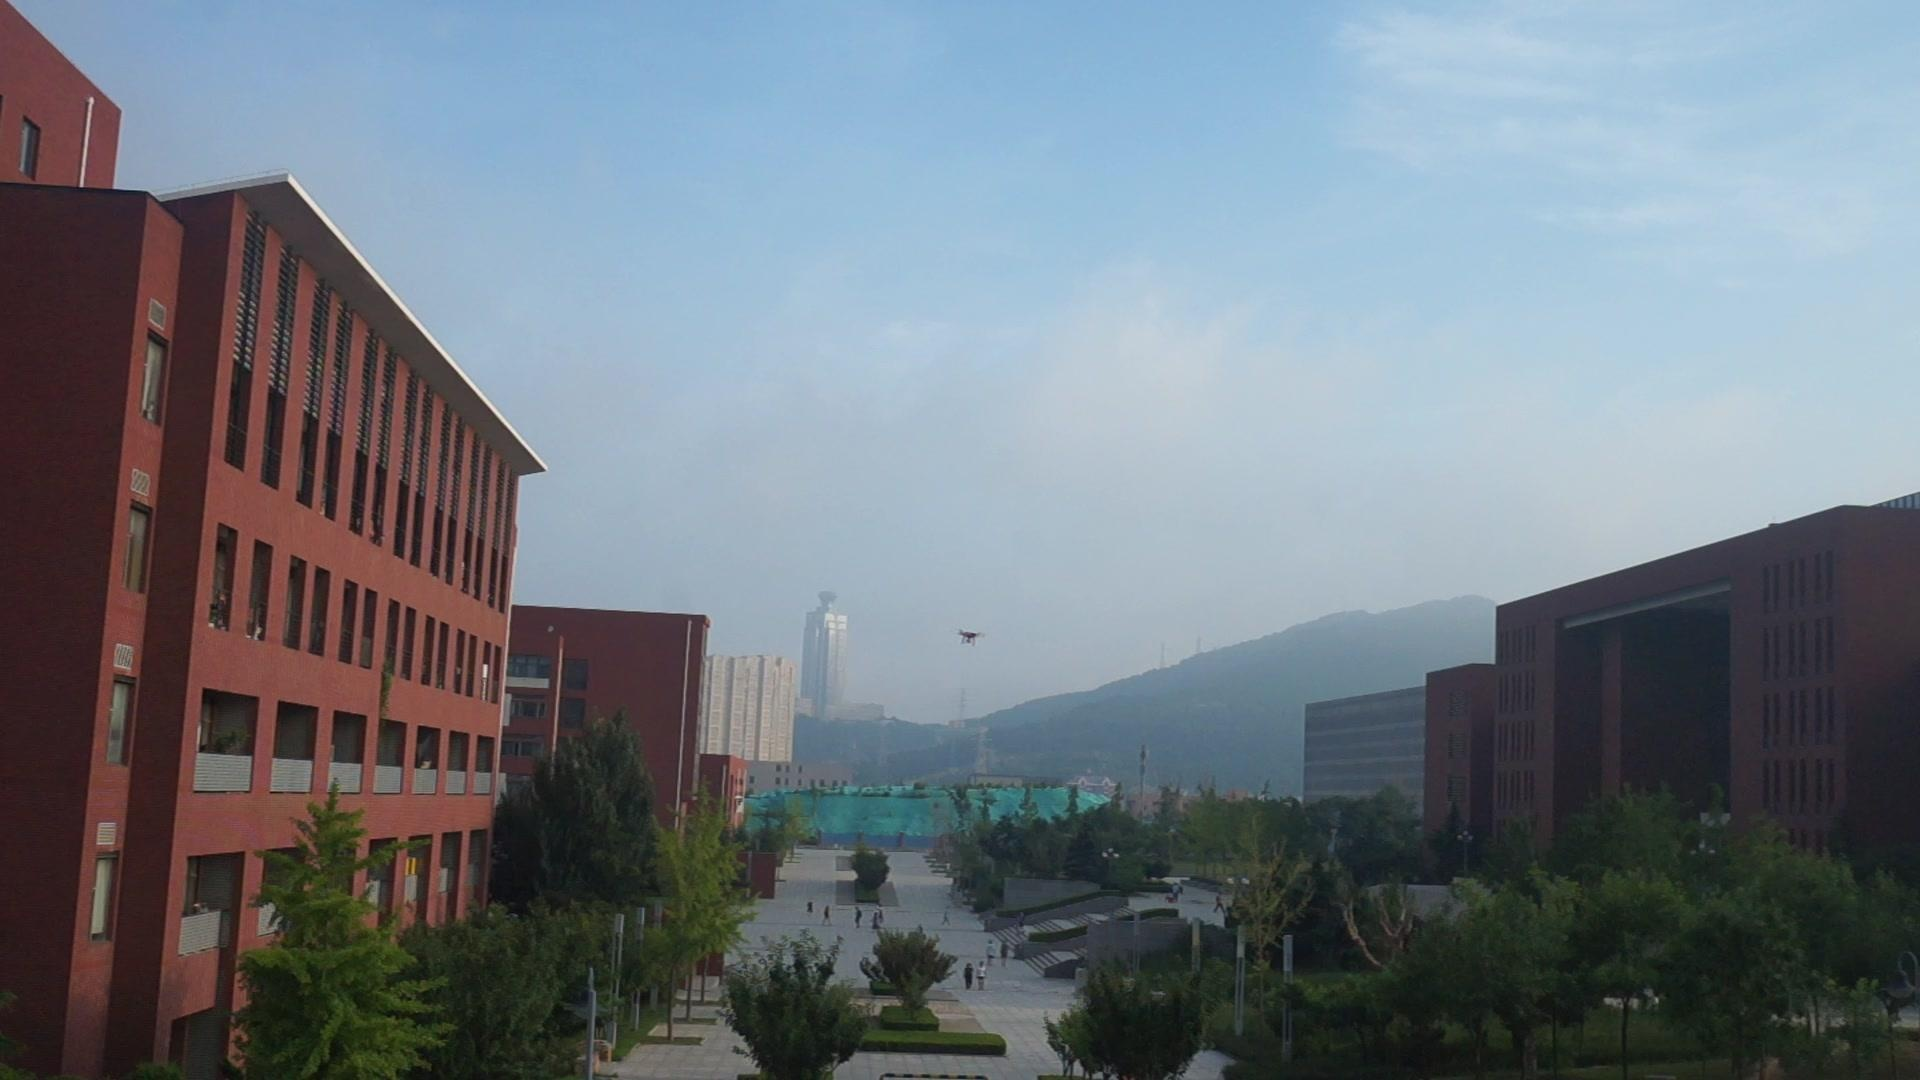UAV: (957, 630, 986, 647)
